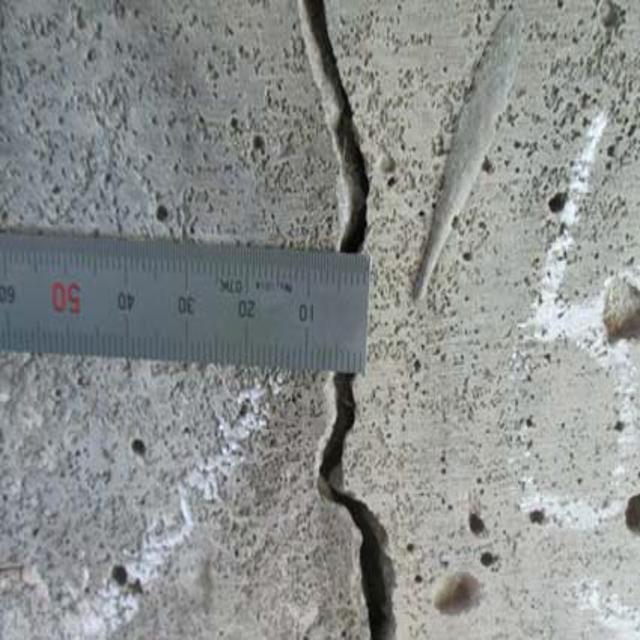crack: (290, 12, 406, 267), (311, 386, 420, 634)
